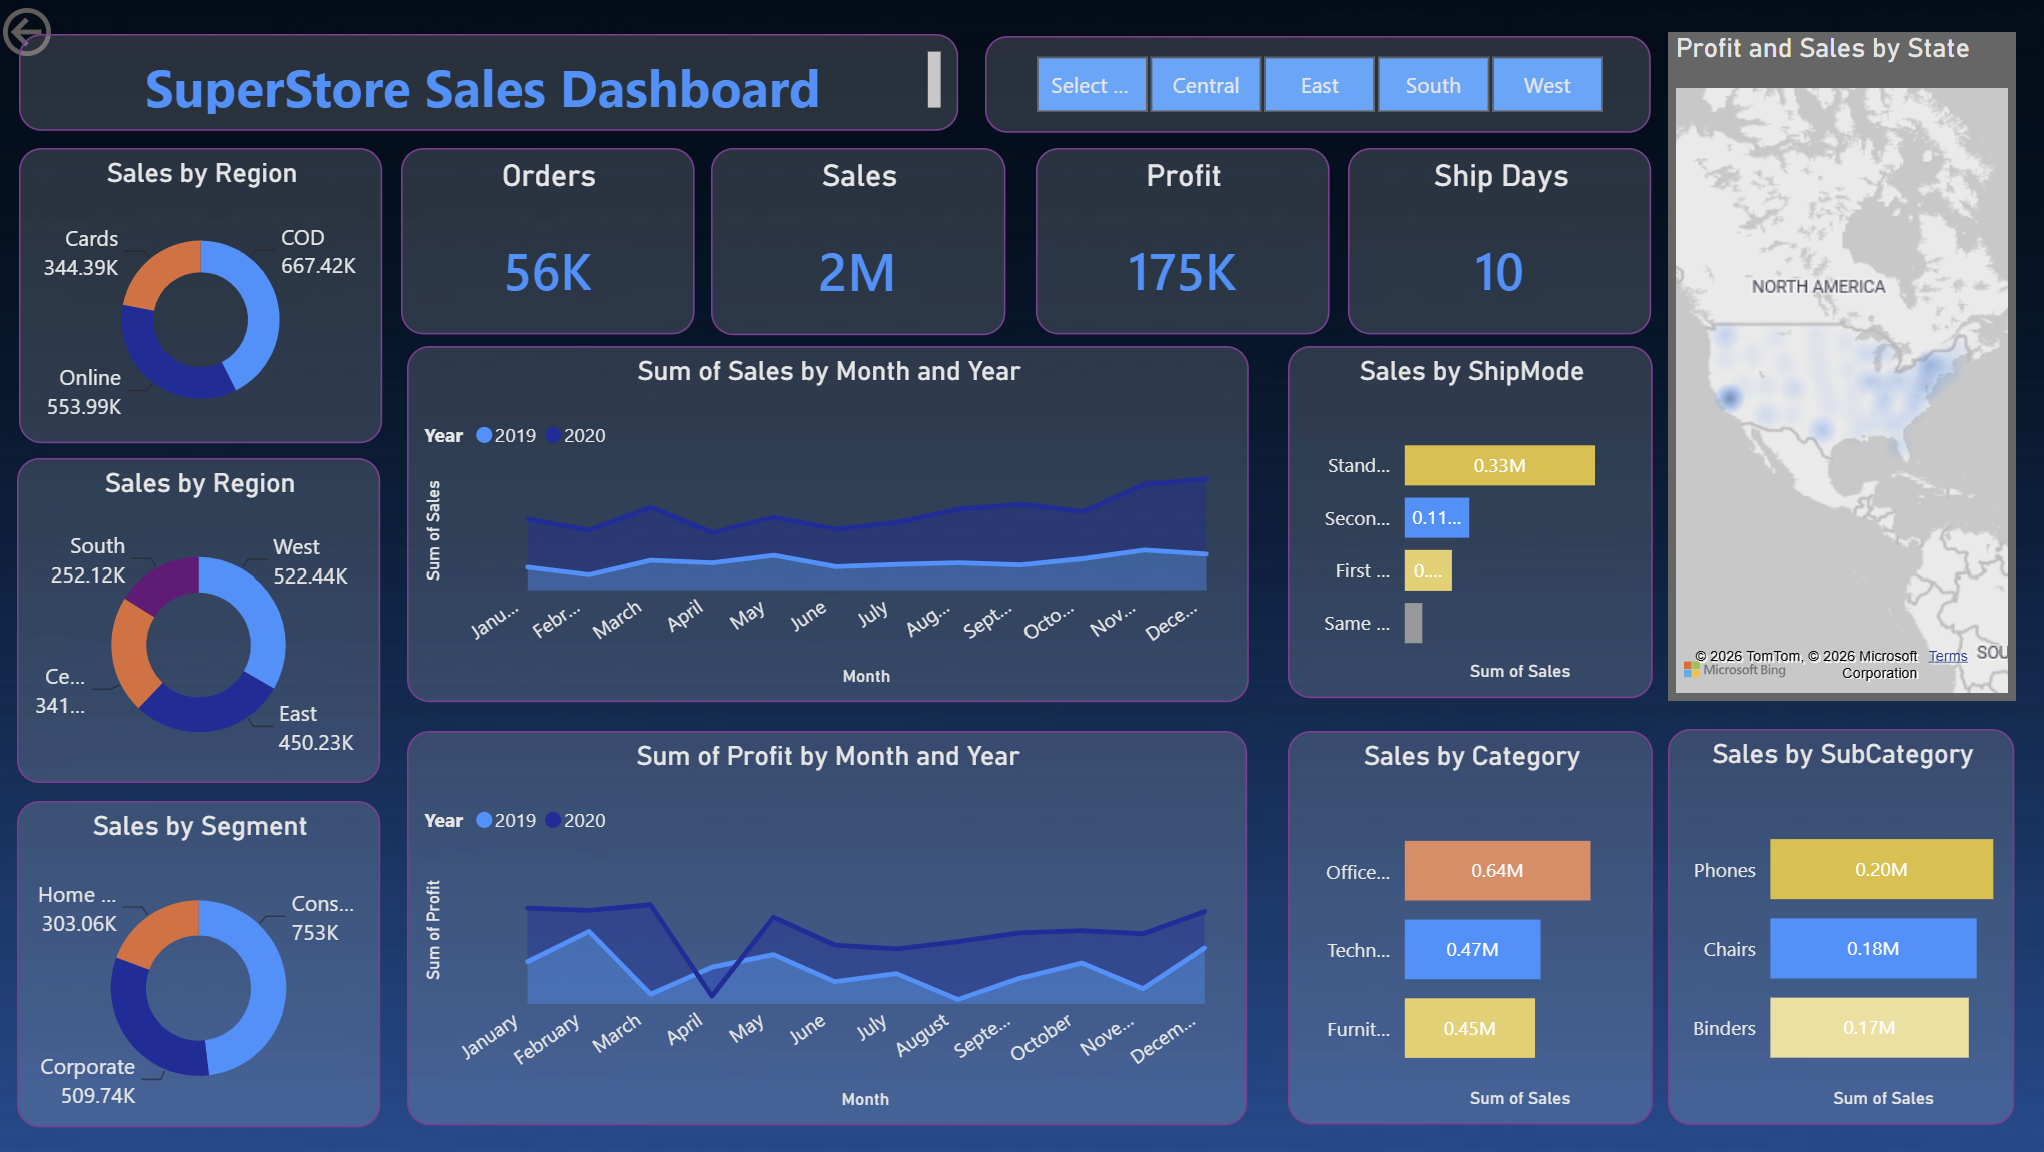

The dashboard page shown, as its layout file describes it:
{"tool":"powerbi","page":{"name":"Page 1","canvas":[1280,720],"ordinal":0},"visuals":[{"type":"clusteredBarChart","title":"Sales by Category","fields":{"Category":["SuperStore_Sales_Dataset.Category"],"Y":["Sum(SuperStore_Sales_Dataset.Sales)"]},"box":[807,456.4,228.2,246.1],"z":0},{"type":"clusteredBarChart","title":"Sales by SubCategory","fields":{"Category":["SuperStore_Sales_Dataset.Sub-Category"],"Y":["Sum(SuperStore_Sales_Dataset.Sales)"]},"box":[1045.4,455.1,216.7,247.3],"z":1000},{"type":"clusteredBarChart","title":"Sales by ShipMode","fields":{"Y":["Sum(SuperStore_Sales_Dataset.Sales)"],"Category":["SuperStore_Sales_Dataset.Ship Mode"]},"box":[807,216.7,228.2,219.3],"z":2000},{"type":"stackedAreaChart","fields":{"Y":["Sum(SuperStore_Sales_Dataset.Sales)"],"Series":["SuperStore_Sales_Dataset.Order Date.Variation.Date Hierarchy.Year"],"Category":["SuperStore_Sales_Dataset.Order Date.Variation.Date Hierarchy.Month"]},"box":[257.5,216.7,525.4,222.2],"z":3000},{"type":"stackedAreaChart","fields":{"Series":["SuperStore_Sales_Dataset.Order Date.Variation.Date Hierarchy.Year"],"Category":["SuperStore_Sales_Dataset.Order Date.Variation.Date Hierarchy.Month"],"Y":["Sum(SuperStore_Sales_Dataset.Profit)"]},"box":[257.5,456.4,524.3,246.5],"z":4000},{"type":"actionButton","box":[0,0,100,40],"z":5000},{"type":"map","title":"Profit and Sales by State","fields":{"Category":["SuperStore_Sales_Dataset.State"],"Size":["Sum(SuperStore_Sales_Dataset.Sales)"]},"box":[1045,20,217.5,417.5],"z":6000},{"type":"donutChart","title":"Sales by Segment","fields":{"Category":["SuperStore_Sales_Dataset.Segment"],"Y":["Sum(SuperStore_Sales_Dataset.Sales)"]},"box":[14.1,500,226.9,203.8],"z":7000},{"type":"donutChart","title":"Sales by Region","fields":{"Y":["Sum(SuperStore_Sales_Dataset.Sales)"],"Category":["SuperStore_Sales_Dataset.Region"]},"box":[14.1,285.9,226.9,202.6],"z":8000},{"type":"donutChart","title":"Sales by Region","fields":{"Y":["Sum(SuperStore_Sales_Dataset.Sales)"],"Category":["SuperStore_Sales_Dataset.Payment Mode"]},"box":[15.4,92.3,226.9,184.6],"z":9000},{"type":"slicer","fields":{"Values":["SuperStore_Sales_Dataset.Region"]},"box":[619.2,23.1,415.4,60.3],"z":10000},{"type":"textbox","box":[15.4,21.8,587.2,60.3],"z":11000},{"type":"cardVisual","title":"Sales","fields":{"Data":["Sum(SuperStore_Sales_Dataset.Sales)"]},"box":[447.4,92.3,183.8,116.9],"z":12000},{"type":"cardVisual","title":"Profit","fields":{"Data":["Sum(SuperStore_Sales_Dataset.Profit)"]},"box":[650,92.3,183.3,116.7],"z":13000},{"type":"cardVisual","title":"Ship Days","fields":{"Data":["Avg(SuperStore_Sales_Dataset.Orders)"]},"box":[844.9,92.3,189.7,116.7],"z":14000},{"type":"cardVisual","title":"Orders","fields":{"Data":["Sum(SuperStore_Sales_Dataset.Orders)"]},"box":[253.8,92.3,183.3,116.7],"z":15000}]}

Visuals, with their boxes in screenshot pixels (x1, y1, x2, y2), scaled from the page's 1280x720 canvas onto the 2044x1152 screenshot:
"Sales by Category" clusteredBarChart: x1=1289 y1=730 x2=1653 y2=1124
"Sales by SubCategory" clusteredBarChart: x1=1669 y1=728 x2=2015 y2=1124
"Sales by ShipMode" clusteredBarChart: x1=1289 y1=347 x2=1653 y2=698
stackedAreaChart - Sum(SuperStore_Sales_Dataset.Sales) x SuperStore_Sales_Dataset.Order Date.Variation.Date Hierarchy.Year: x1=411 y1=347 x2=1250 y2=702
stackedAreaChart - SuperStore_Sales_Dataset.Order Date.Variation.Date Hierarchy.Year x SuperStore_Sales_Dataset.Order Date.Variation.Date Hierarchy.Month: x1=411 y1=730 x2=1248 y2=1125
actionButton: x1=0 y1=0 x2=160 y2=64
"Profit and Sales by State" map: x1=1669 y1=32 x2=2016 y2=700
"Sales by Segment" donutChart: x1=23 y1=800 x2=385 y2=1126
"Sales by Region" donutChart: x1=23 y1=457 x2=385 y2=782
"Sales by Region" donutChart: x1=25 y1=148 x2=387 y2=443
slicer - SuperStore_Sales_Dataset.Region: x1=989 y1=37 x2=1652 y2=133
textbox: x1=25 y1=35 x2=962 y2=131
"Sales" cardVisual: x1=714 y1=148 x2=1008 y2=335
"Profit" cardVisual: x1=1038 y1=148 x2=1331 y2=334
"Ship Days" cardVisual: x1=1349 y1=148 x2=1652 y2=334
"Orders" cardVisual: x1=405 y1=148 x2=698 y2=334
